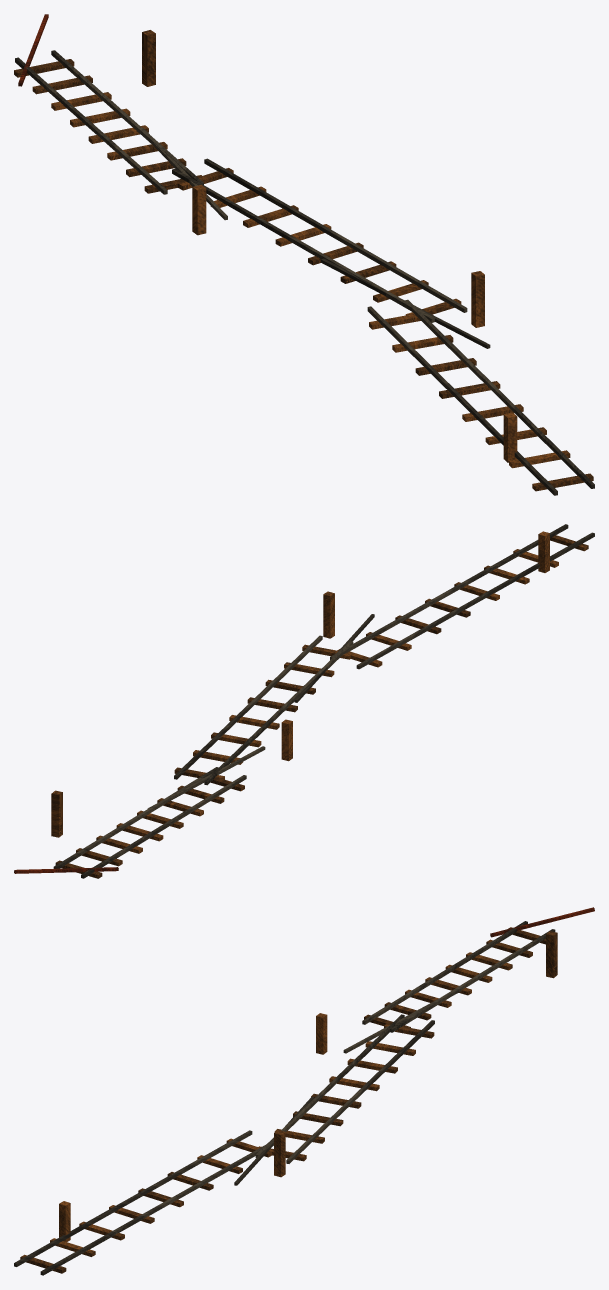
File: switchback-rail-kit.glb
3 views of the same model, one above another, from view 1: azimuth 30°, elevation 25°; view 2: azimuth 150°, elevation 25°; view 3: azimuth 330°, elevation 25° (orthographic). The views are drawn at different scales.
Parts seen in each view (by area): view 1: switchback-rail-kit; view 2: switchback-rail-kit; view 3: switchback-rail-kit.
Part boxes in pixels (x1,y1,x2,y2): switchback-rail-kit: (14,14,594,495); switchback-rail-kit: (14,524,594,878); switchback-rail-kit: (14,907,594,1275).
Bounding box in the file's own units: 4.24 × 1.55 × 33.26.
1 material, 1 textured.
